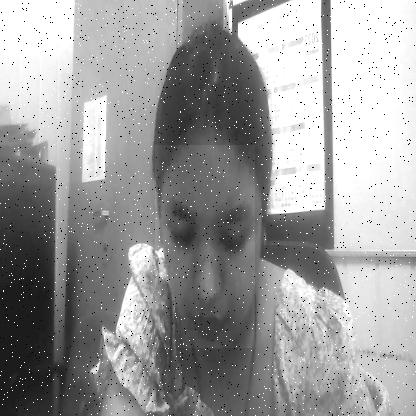Normal: (155, 145, 255, 348)
